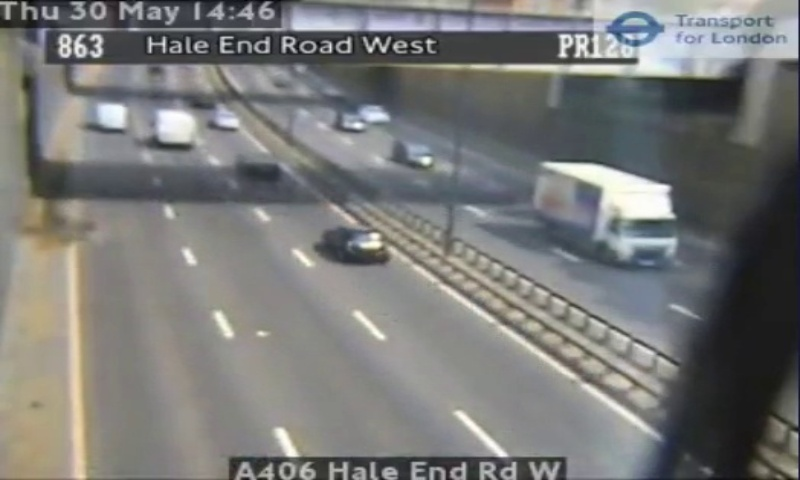car: (325, 226, 386, 260)
van: (154, 110, 193, 144), (93, 103, 125, 129)
